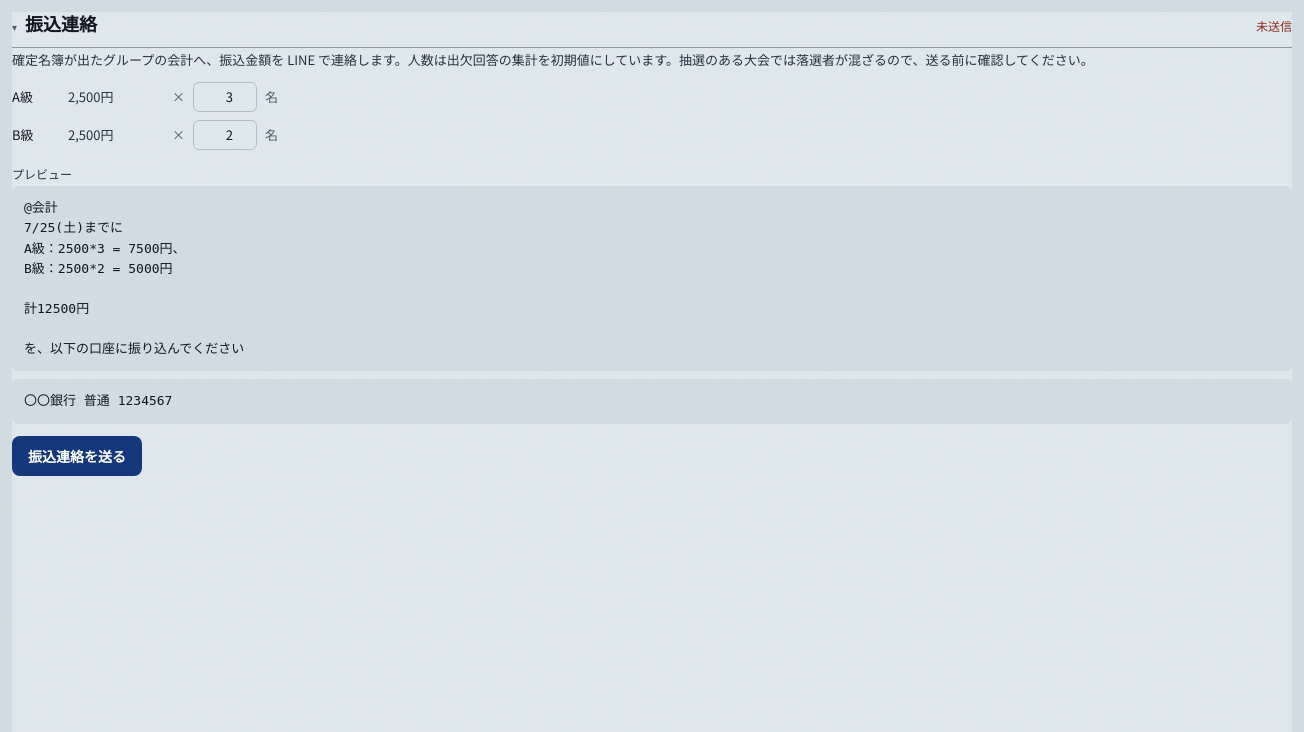
PaymentNoticeSection › 人数を直すとプレビューの金額が追随する
Replace the text in the number field named "A級の人数" with "1": (225, 97) [193,82,257,112]
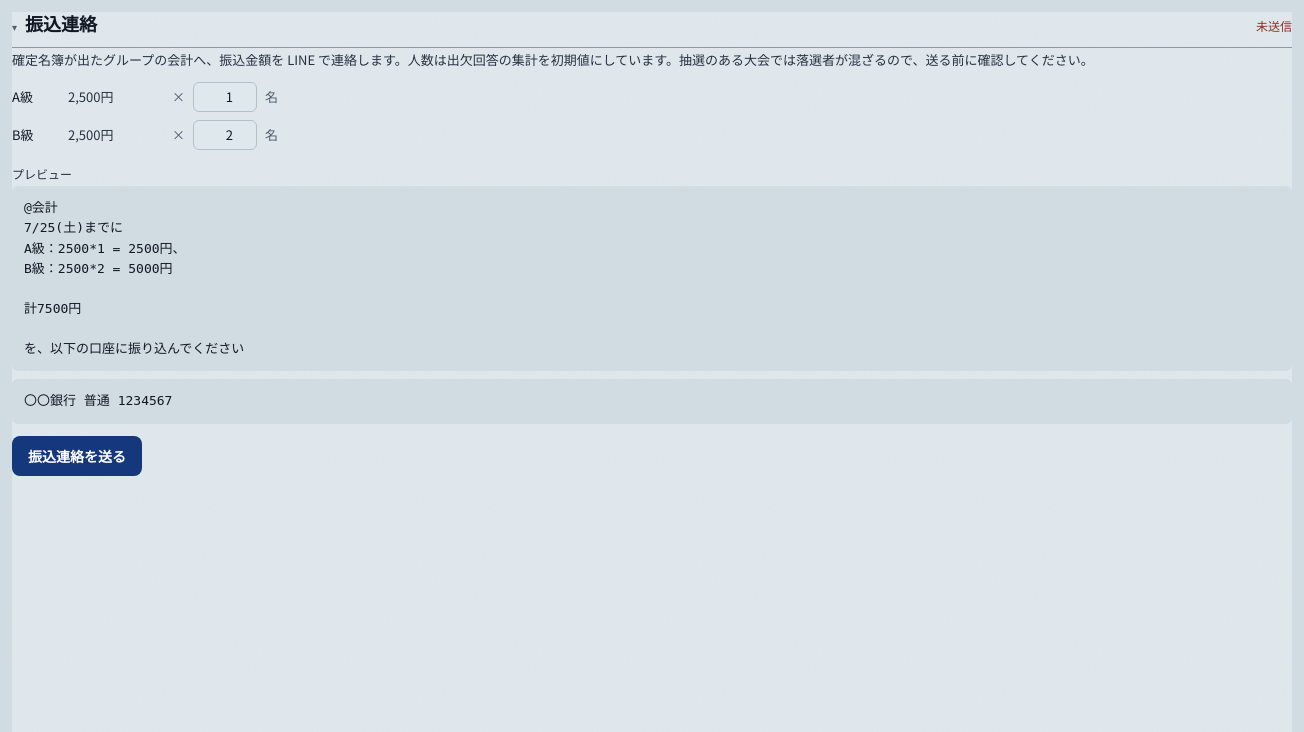
expect the text "A級：2500*1 = 2500円" is shown: met, box [24,200,244,356]
expect the text "計7500円" is shown: met, box [24,200,244,356]
